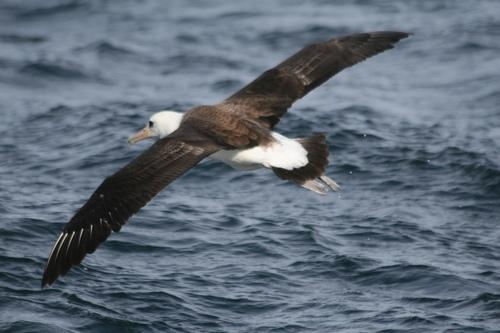bird: (37, 28, 415, 292)
